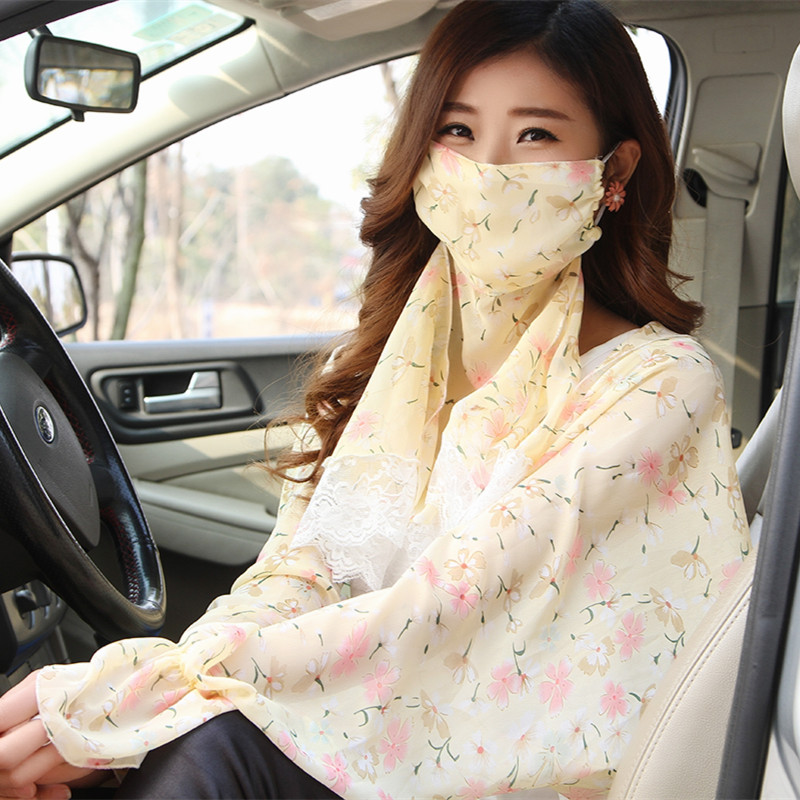face_mask: (420, 45, 600, 282)
